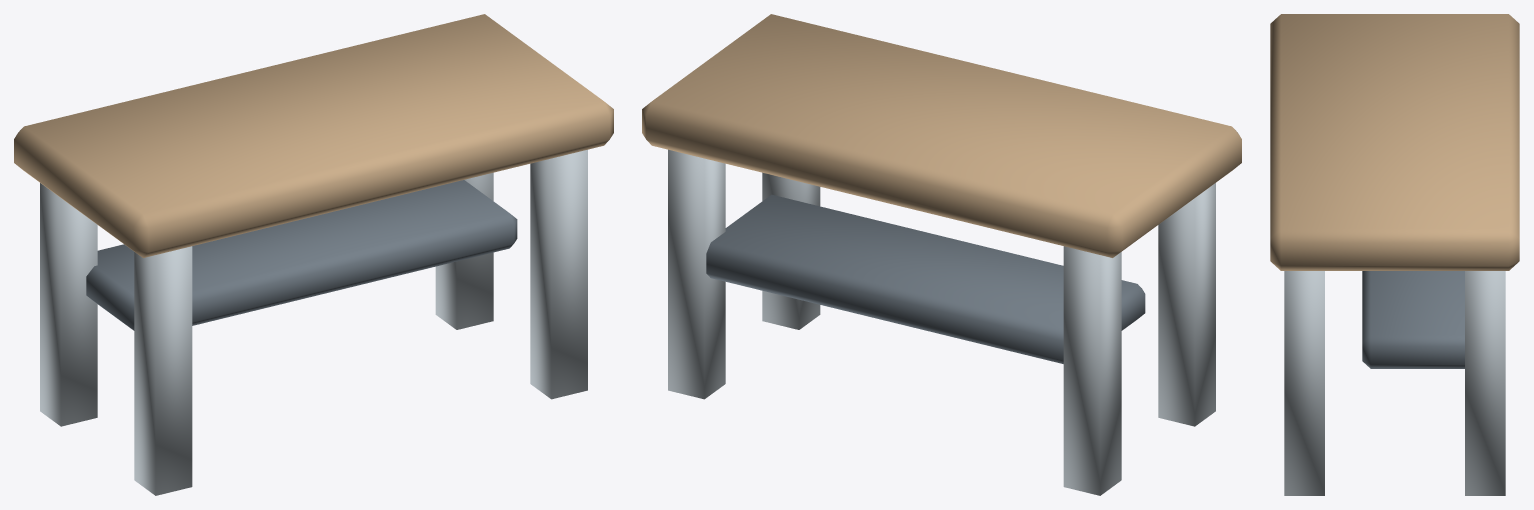
The model's file is workbench_ultra.glb.
3 views of the same model, side by side, from view 1: azimuth 30°, elevation 25°; view 2: azimuth 150°, elevation 25°; view 3: azimuth 270°, elevation 25° (orthographic). The views are drawn at different scales.
Parts seen in each view (by area): view 1: Top_wood, Leg_steel, Shelf_dark; view 2: Top_wood, Leg_steel, Shelf_dark; view 3: Top_wood, Leg_steel, Shelf_dark.
Part boxes in pixels (bbox=[...]): Top_wood: bbox=[14, 14, 613, 257]; Leg_steel: bbox=[40, 149, 587, 495]; Shelf_dark: bbox=[86, 180, 517, 330]; Top_wood: bbox=[642, 14, 1241, 257]; Leg_steel: bbox=[668, 149, 1215, 495]; Shelf_dark: bbox=[706, 194, 1145, 363]; Top_wood: bbox=[1270, 14, 1519, 270]; Leg_steel: bbox=[1284, 271, 1505, 495]; Shelf_dark: bbox=[1362, 271, 1464, 368].
Bounding box in the file's own units: 1.7 × 0.97 × 0.8.
